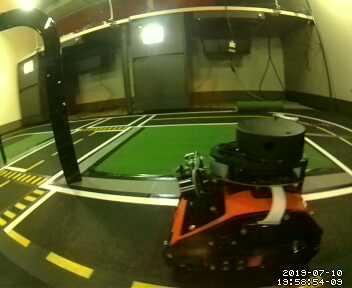pheeno: (164, 115, 324, 270)
